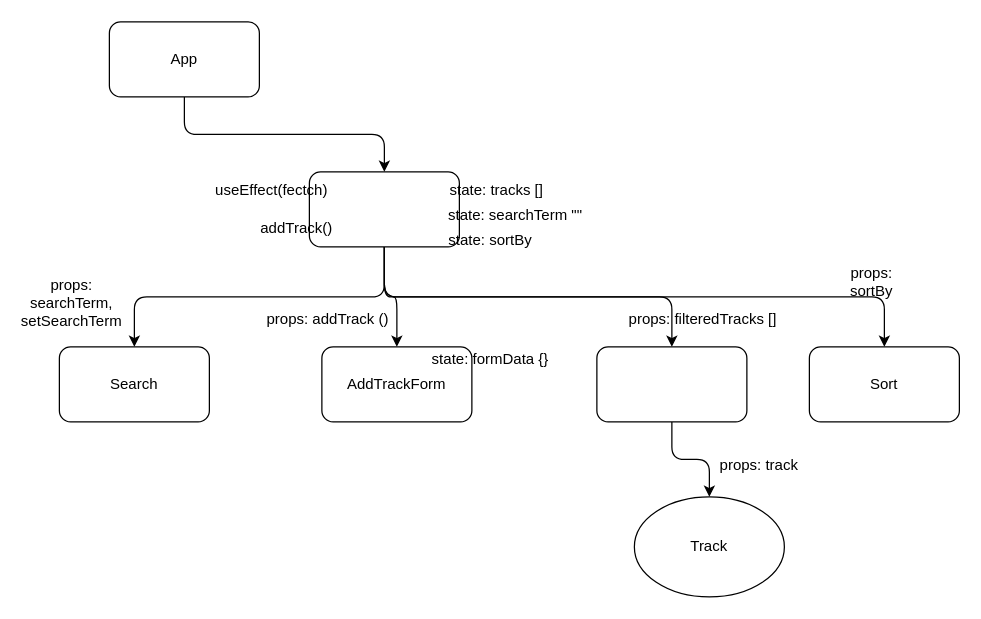
Image size: 981x619. Some labels were removed from this diagram. The shapes that lost their labels are listed below. From the top down, each one's box as (x1, y1, x2, y2) in pixels, then its label:
(308, 171, 459, 247): TracksPage
(596, 346, 747, 422): TrackList
